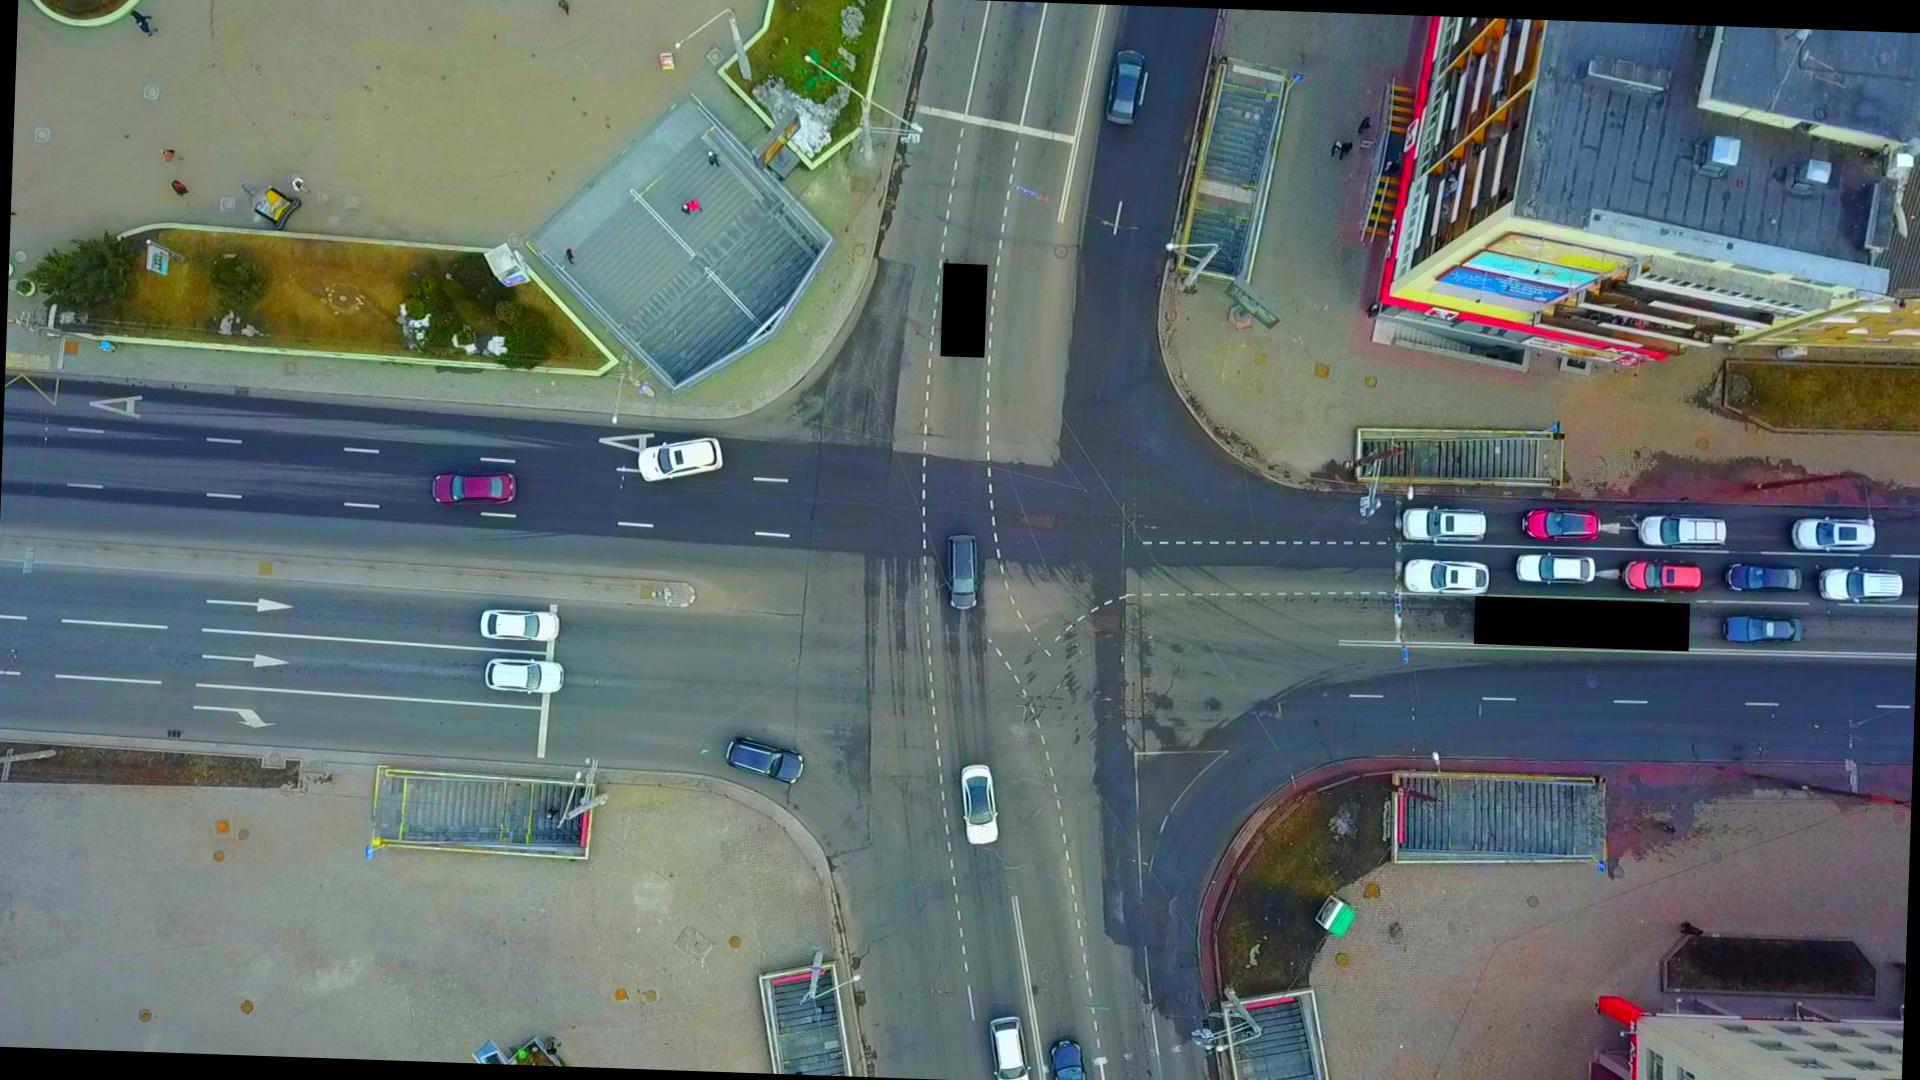vehicle: (636, 433, 727, 484), (723, 735, 807, 787), (956, 761, 1005, 847), (1816, 563, 1905, 607), (427, 468, 520, 510), (1789, 513, 1878, 556), (1399, 504, 1490, 546), (1402, 556, 1493, 599), (1639, 510, 1730, 551), (940, 531, 984, 611), (484, 655, 567, 696), (1621, 556, 1704, 597), (1519, 505, 1604, 545), (476, 607, 563, 644), (1720, 611, 1807, 647), (1514, 550, 1598, 587), (1724, 559, 1804, 596)
